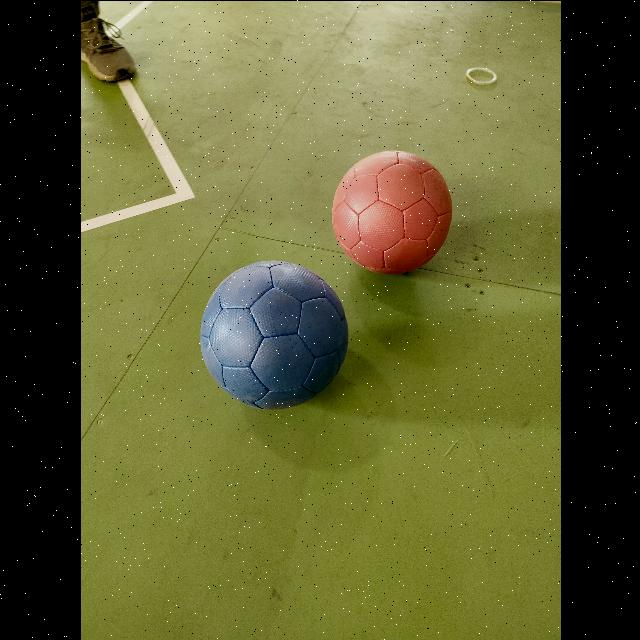B: (200, 261, 348, 407)
R: (331, 149, 451, 273)
